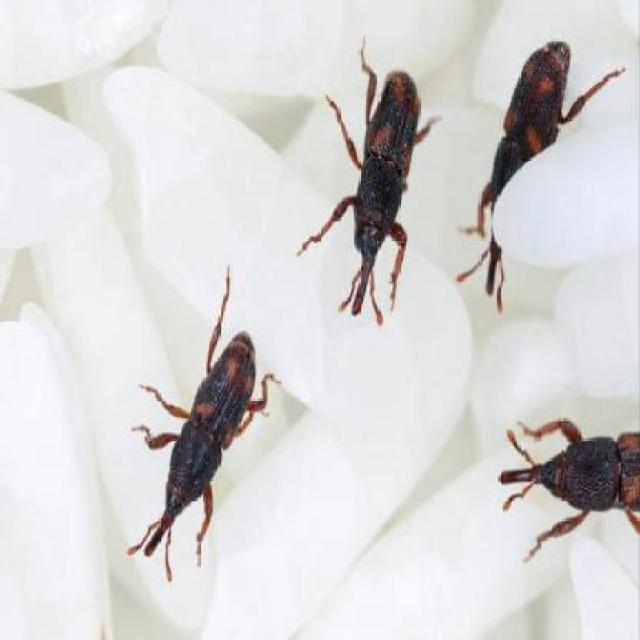rice-bug: (462, 35, 593, 299), (138, 313, 268, 558), (315, 61, 434, 312), (498, 408, 640, 538)
